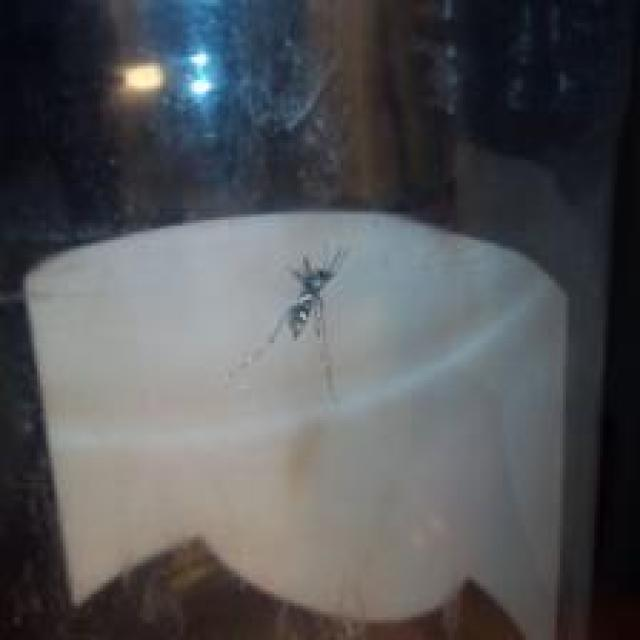Aedes albopictus: (228, 245, 352, 406)
